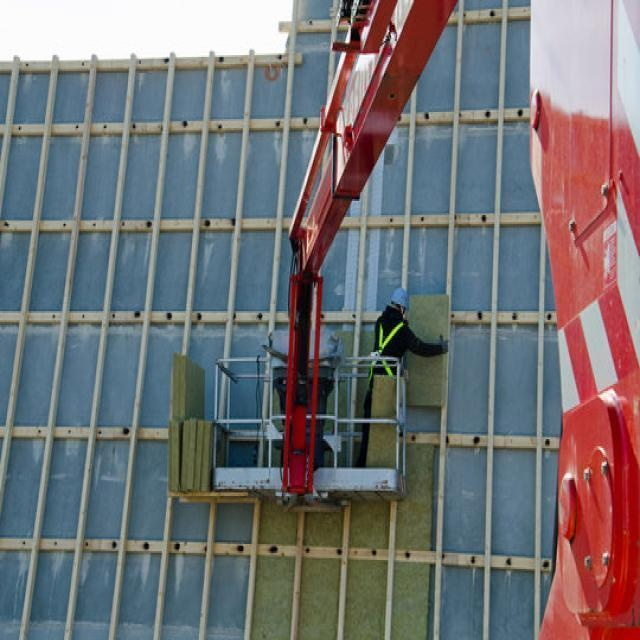Arnes_seguridad: (368, 316, 403, 380)
